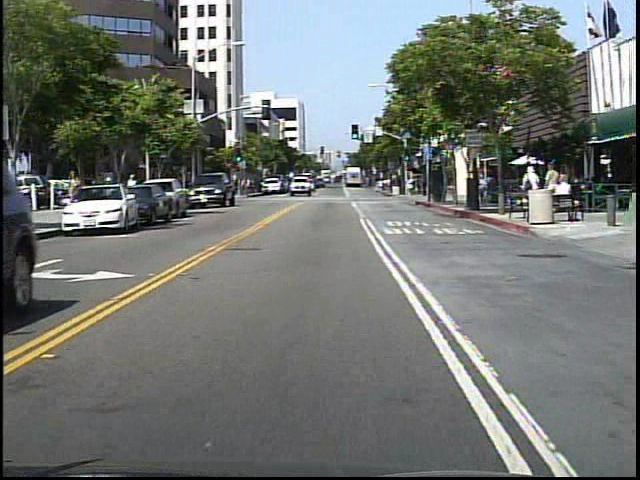person: (65, 167, 85, 218), (241, 176, 254, 201)
